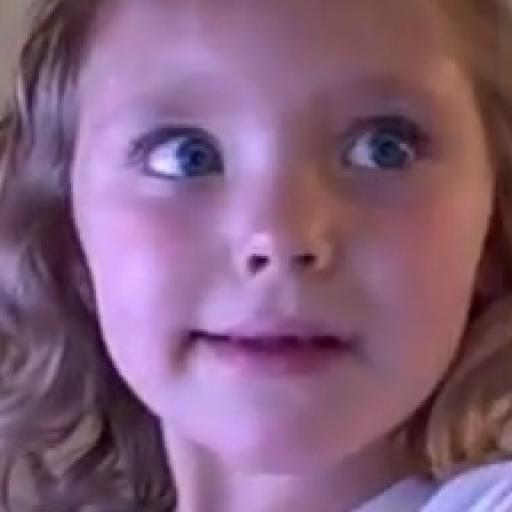Autism: (64, 0, 512, 512)
